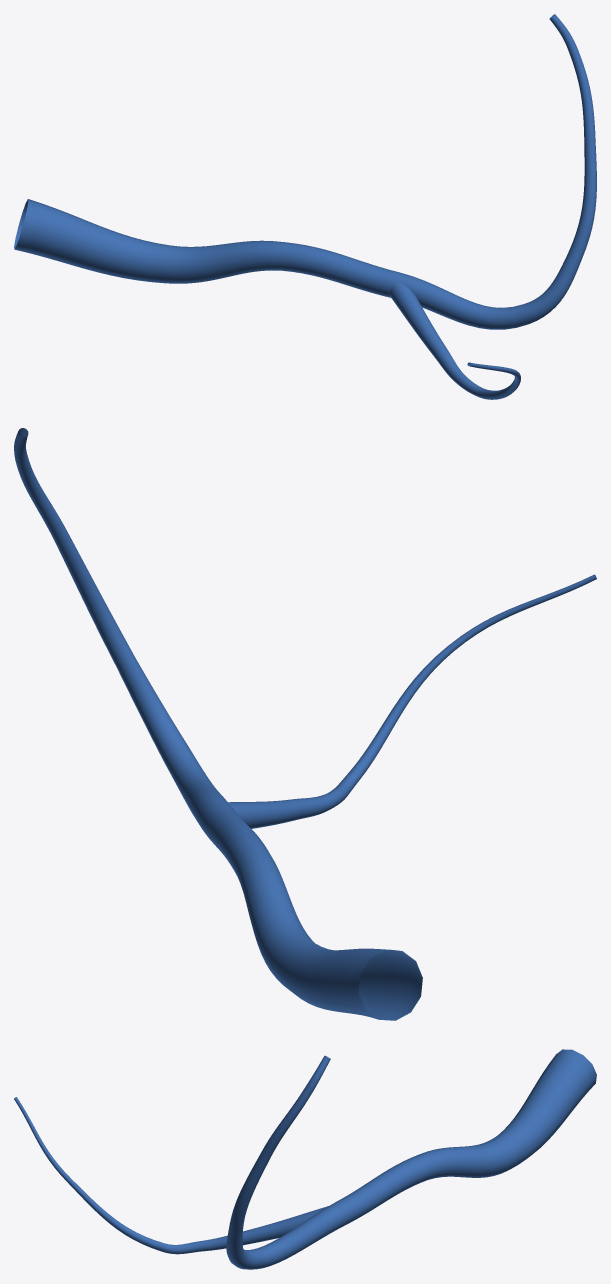
3 renders of one model, top to bottom at view 1: azimuth 30°, elevation 25°; view 2: azimuth 150°, elevation 25°; view 3: azimuth 270°, elevation 25°, orthographic. The views are drawn at different scales.
Parts seen in each view (by area): view 1: 左侧旋肱前静脉; view 2: 左侧旋肱前静脉; view 3: 左侧旋肱前静脉.
Part boxes in pixels (box(x1,y1,x2,y2)): 左侧旋肱前静脉: box(14, 14, 596, 399); 左侧旋肱前静脉: box(14, 428, 596, 1020); 左侧旋肱前静脉: box(14, 1049, 596, 1269).
Bounding box in the file's own units: 0.076 × 0.0485 × 0.0952.
